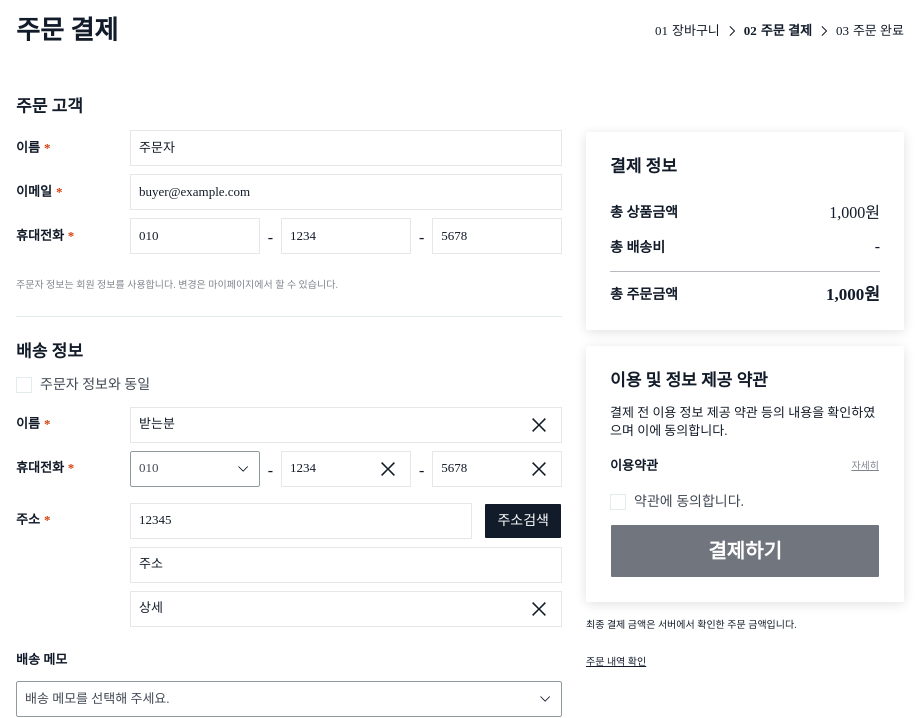
Test: opens the real address search and fills the chosen address
Click the button "주소검색" at {"x": 523, "y": 521}, box [484,503,562,539]
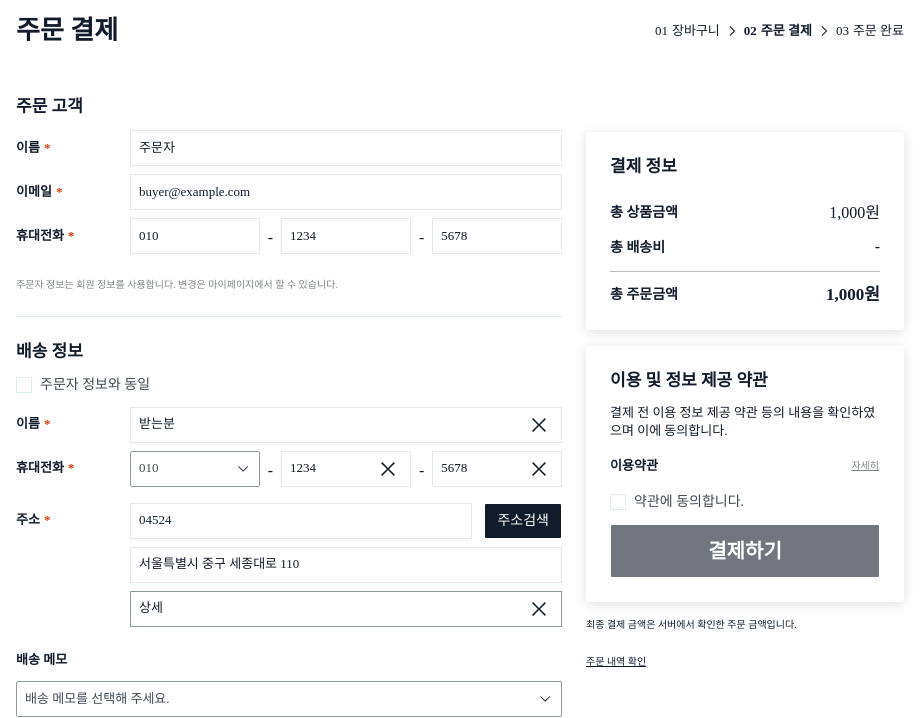
Check: the field named "우편번호" holds "04524", box [139,512,464,530]
Check: the field named "기본주소" holds "서울특별시 중구 세종대로 110", box [139,556,553,574]
